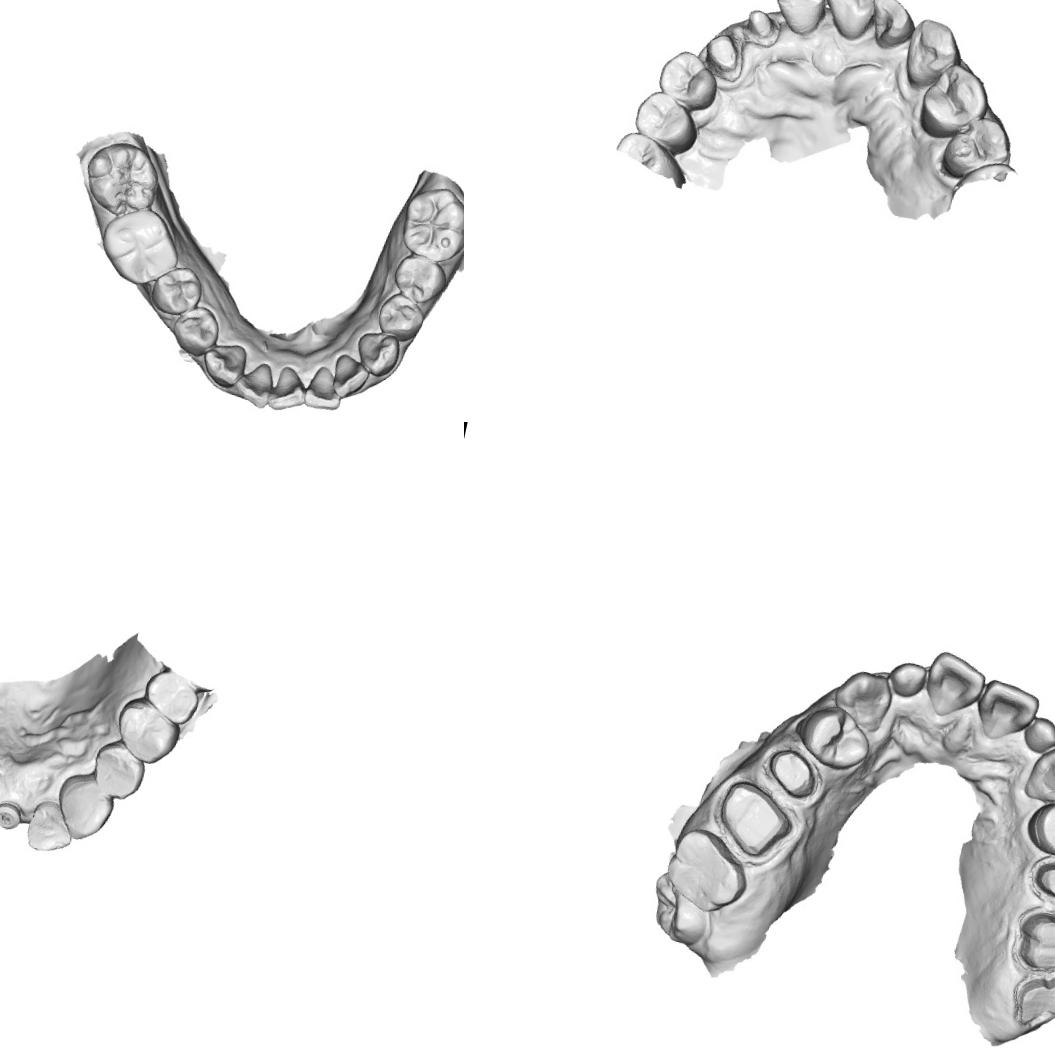canine: (899, 14, 969, 98), (828, 664, 898, 737), (52, 776, 120, 847), (349, 326, 404, 381), (198, 336, 250, 390), (1020, 739, 1055, 810)
crown: (703, 772, 802, 866), (757, 737, 829, 805), (1008, 899, 1055, 984), (698, 30, 748, 85), (738, 0, 786, 50), (1024, 849, 1055, 911)
implant_minus: (0, 796, 27, 834)
incisor: (970, 674, 1044, 748), (919, 647, 990, 724), (22, 796, 80, 858), (862, 0, 921, 55), (811, 0, 883, 44), (761, 0, 832, 40), (231, 355, 278, 412), (301, 362, 349, 415), (327, 350, 373, 404), (267, 363, 311, 417), (885, 655, 930, 702), (1020, 713, 1055, 758)
molar: (657, 821, 758, 921), (92, 198, 190, 294), (76, 134, 170, 224), (394, 178, 464, 269), (138, 666, 205, 729)
premolar: (914, 57, 999, 148), (791, 698, 878, 776), (936, 108, 1018, 190), (109, 694, 186, 771), (626, 86, 706, 160), (652, 44, 725, 116), (85, 735, 152, 806), (144, 259, 208, 324), (386, 248, 452, 309), (167, 299, 225, 362), (372, 288, 428, 346), (1021, 788, 1055, 864)
